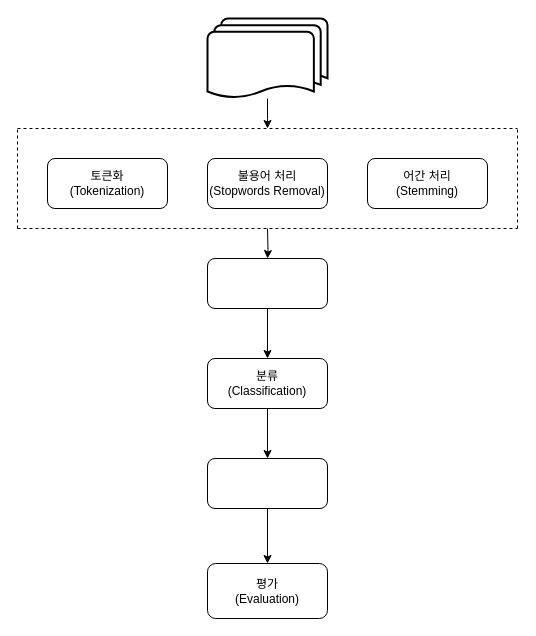
The diagram is 536 pixels wide and 636 high, and some of its shapes have lost their labels. The shapes that lost their labels are listed below. From the top down, each one's centre as x and y in pixels, then its label:
At (x=267, y=58): "데이터 수집".
At (x=267, y=283): "변수 추출 (Feature Extraction)".
At (x=267, y=483): "트위터 봇 개발 (Implementing Twitter Bot)".
